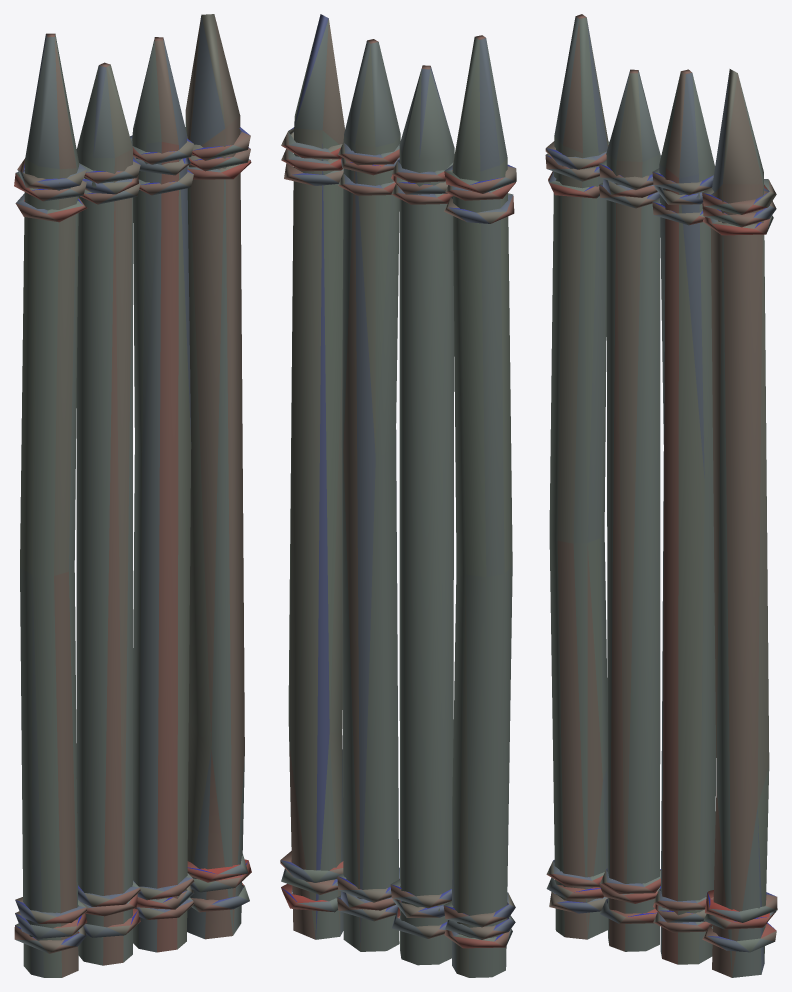
Rendered from wood_spikes_01_LOD.fbx.
3 renders of one model, left to right at view 1: azimuth 30°, elevation 25°; view 2: azimuth 150°, elevation 25°; view 3: azimuth 330°, elevation 25°, orthographic. The views are drawn at different scales.
Visible parts, largest first — view 1: wood_spikes_01 (2), rope (2); view 2: wood_spikes_01 (2), rope (2); view 3: wood_spikes_01 (2), rope (2).
Part boxes in pixels (<box>): wood_spikes_01 (2): <box>20,14,244,977</box>; rope (2): <box>14,127,251,953</box>; wood_spikes_01 (2): <box>288,14,512,977</box>; rope (2): <box>280,127,516,948</box>; wood_spikes_01 (2): <box>549,14,769,977</box>; rope (2): <box>545,141,777,952</box>.
Size of the model in its own units: 220 by 866 by 65.22.
